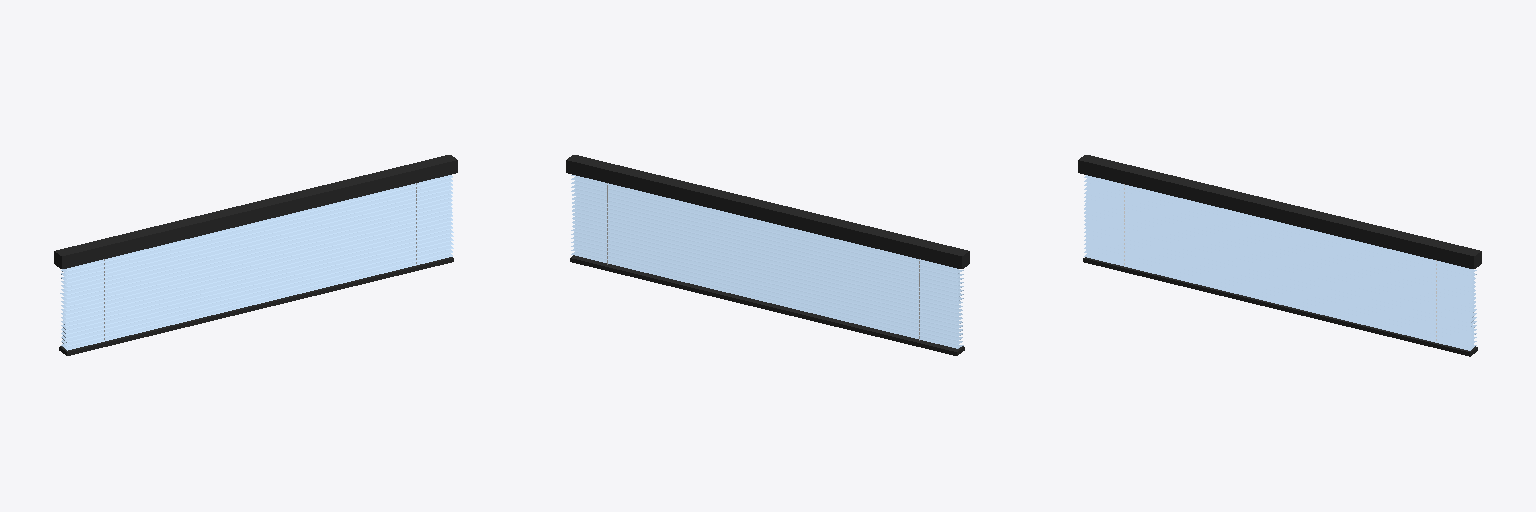
3 views of the same model, side by side, from view 1: azimuth 30°, elevation 25°; view 2: azimuth 150°, elevation 25°; view 3: azimuth 330°, elevation 25° (orthographic).
Visible parts, largest first — view 1: Screen; view 2: Screen; view 3: Screen.
Part boxes in pixels (x1,y1,x2,y2): Screen: (54, 155, 457, 355); Screen: (566, 155, 969, 355); Screen: (1078, 155, 1481, 356).
Bounding box in the file's own units: 11.44 × 2.79 × 0.3834.